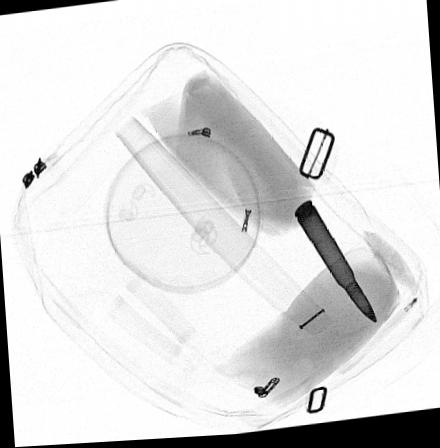Bullet: (294, 202, 379, 328)
